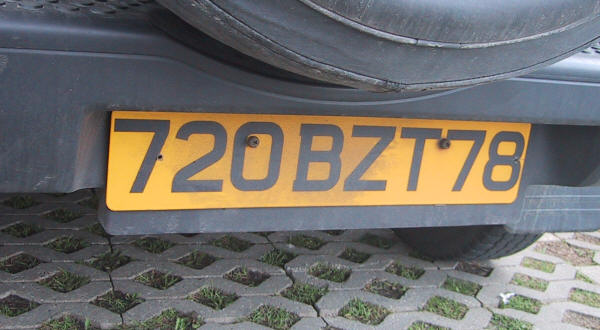license_plate: (106, 108, 532, 210)
